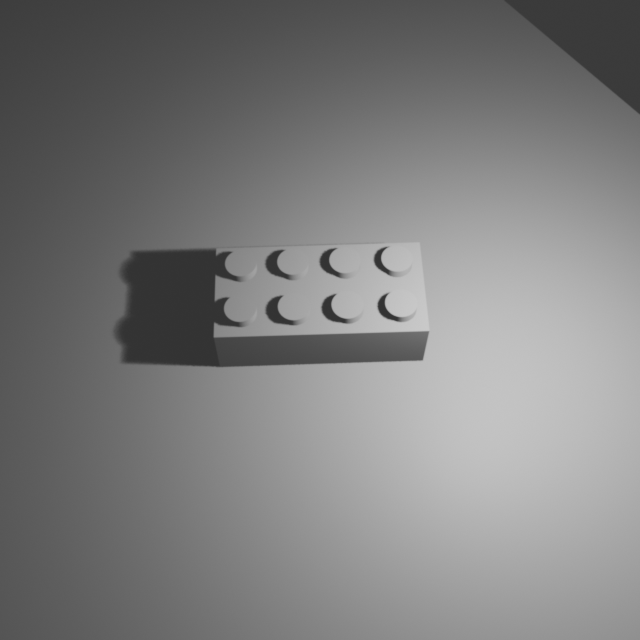lego_2x4: (213, 236, 431, 367)
